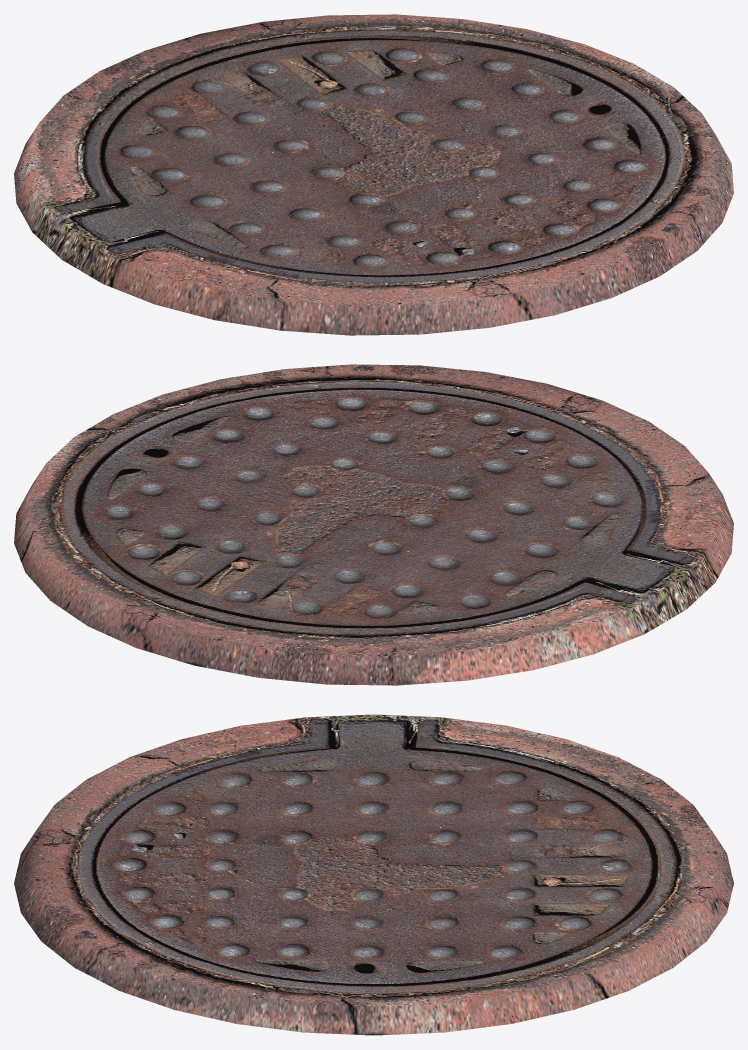
Rendered from sewer.fbx.
3 renders of one model, top to bottom at view 1: azimuth 30°, elevation 25°; view 2: azimuth 150°, elevation 25°; view 3: azimuth 270°, elevation 25°, orthographic.
Parts seen in each view (by area): view 1: Mesh; view 2: Mesh; view 3: Mesh.
Part boxes in pixels (<box>): Mesh: <box>14,14,733,335</box>; Mesh: <box>14,364,733,685</box>; Mesh: <box>14,714,733,1035</box>.
Size of the model in its own units: 114 by 4 by 114.
